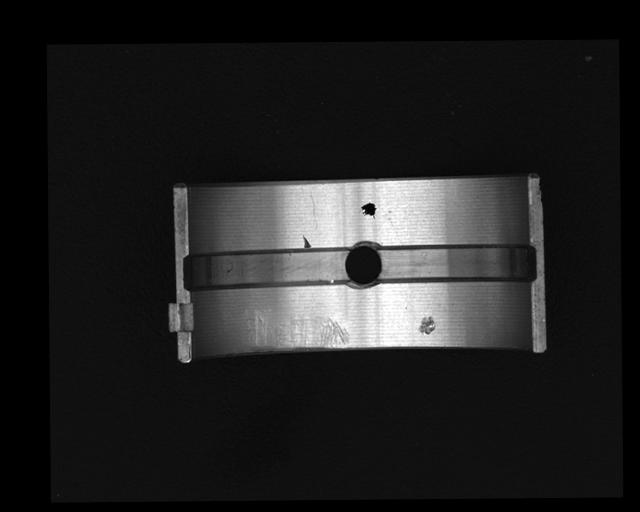blot: (360, 201, 376, 218)
bruise: (416, 313, 437, 335), (302, 235, 313, 248)
gap: (185, 247, 351, 292), (373, 242, 539, 284)
hole: (342, 241, 382, 290)
nick: (310, 193, 317, 230)
scratch: (244, 312, 350, 351)
